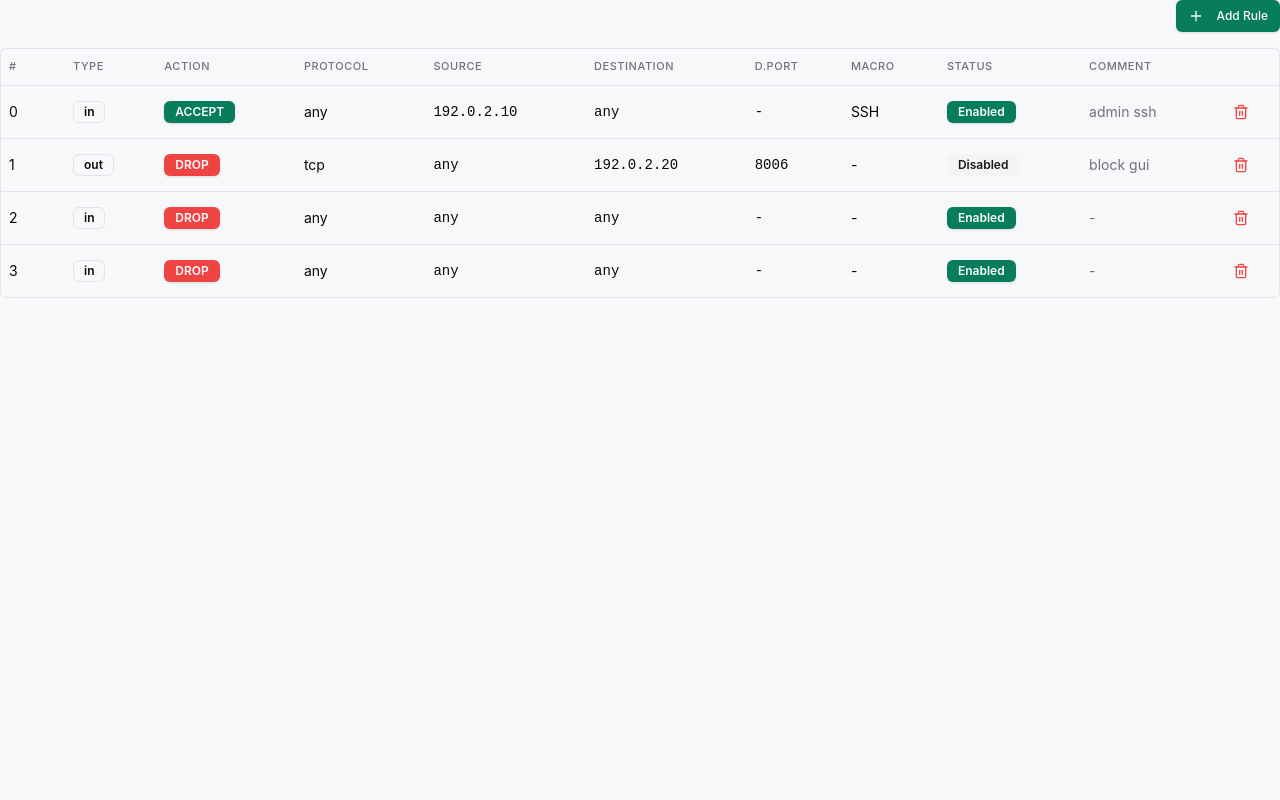
FirewallRulesTable — deleting a rule › tells apart two rules that differ only in interface and log level
Click the button named "Delete rule 3". click: (1241, 270)
box: left=1223, top=252, right=1259, bottom=288
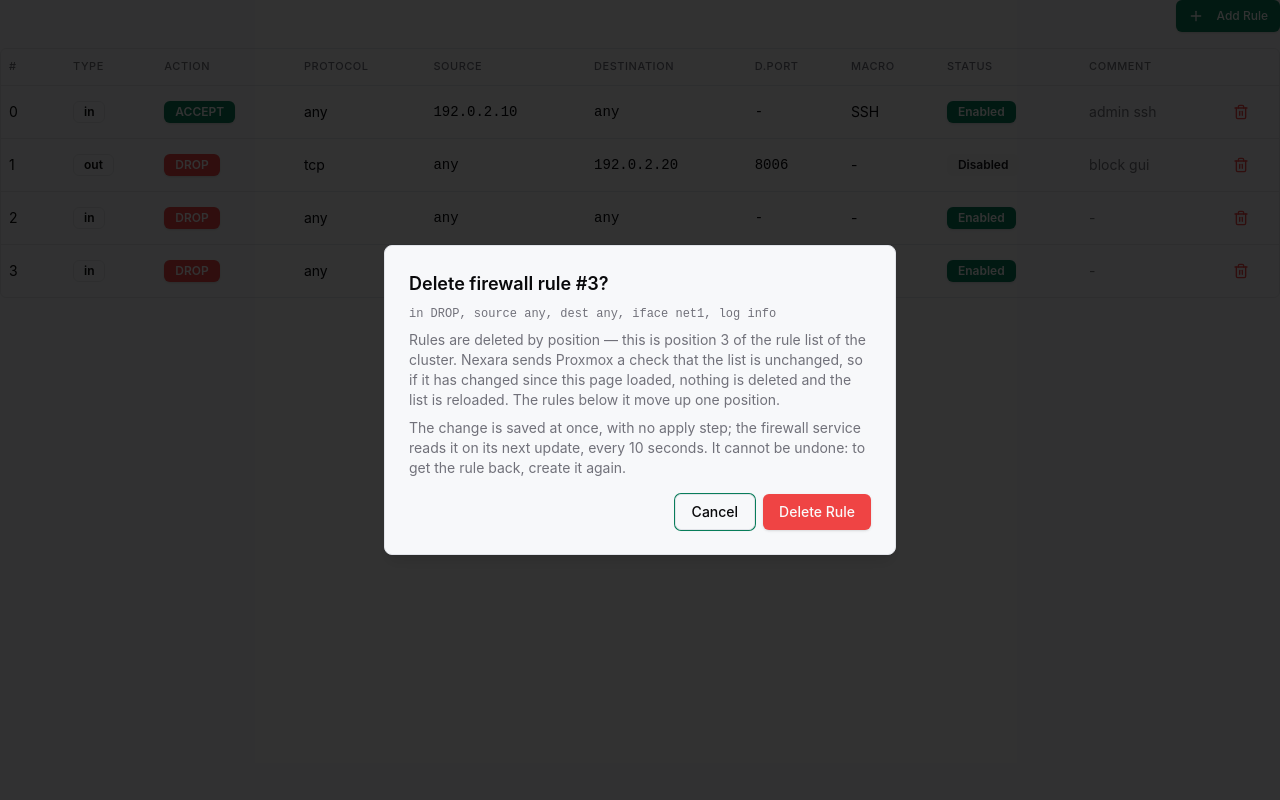
Expected: the dialog does not show "net0", left=384, top=245, right=896, bottom=555
Result: the dialog shows "in DROP, source any, dest any, iface net1, log info" at left=409, top=307, right=776, bottom=321
